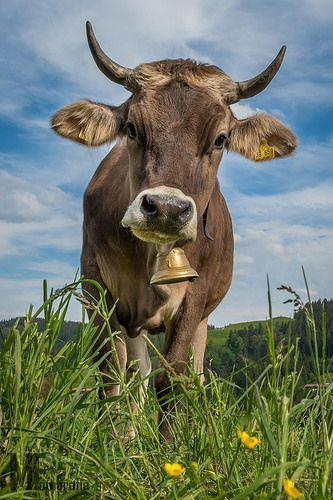cow: (40, 4, 319, 430)
